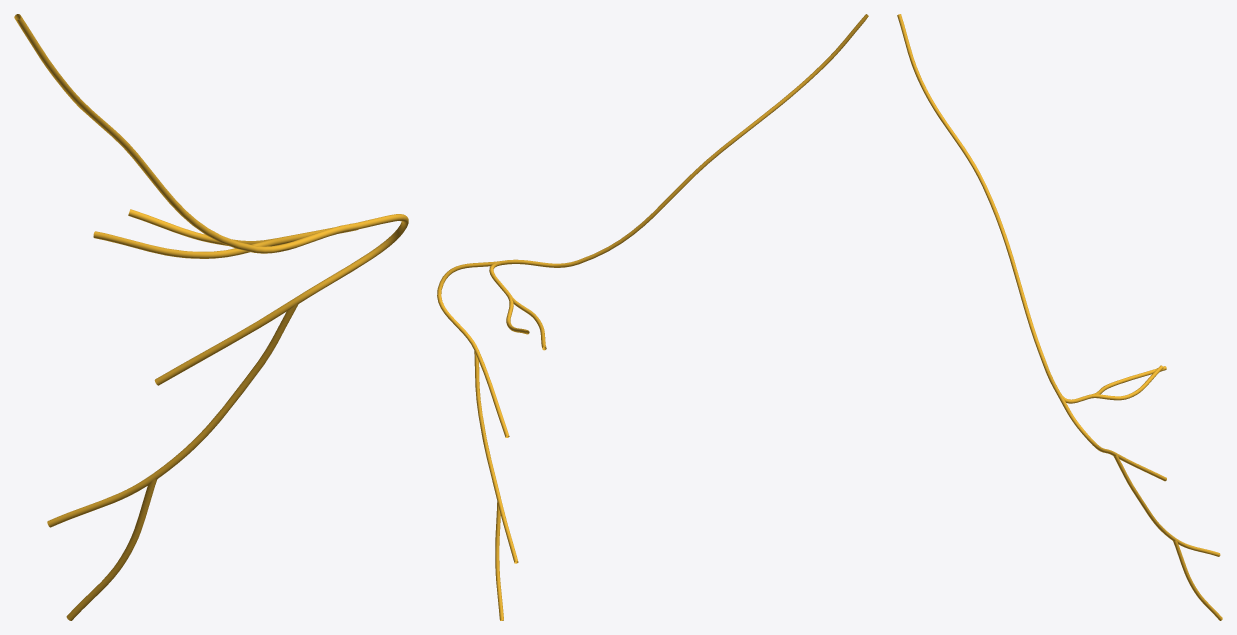
Rendered from nervoso-suprascapular-nerve-l.glb.
3 views of the same model, side by side, from view 1: azimuth 30°, elevation 25°; view 2: azimuth 150°, elevation 25°; view 3: azimuth 270°, elevation 25° (orthographic). The views are drawn at different scales.
Parts seen in each view (by area): view 1: Suprascapular nerve.l; view 2: Suprascapular nerve.l; view 3: Suprascapular nerve.l.
Boxes of the visible parts, left/top/right/bottom form: Suprascapular nerve.l: left=14, top=14, right=408, bottom=620; Suprascapular nerve.l: left=437, top=14, right=868, bottom=620; Suprascapular nerve.l: left=897, top=14, right=1222, bottom=620.
Size of the model in its own units: 0.0894 by 0.1374 by 0.079.
